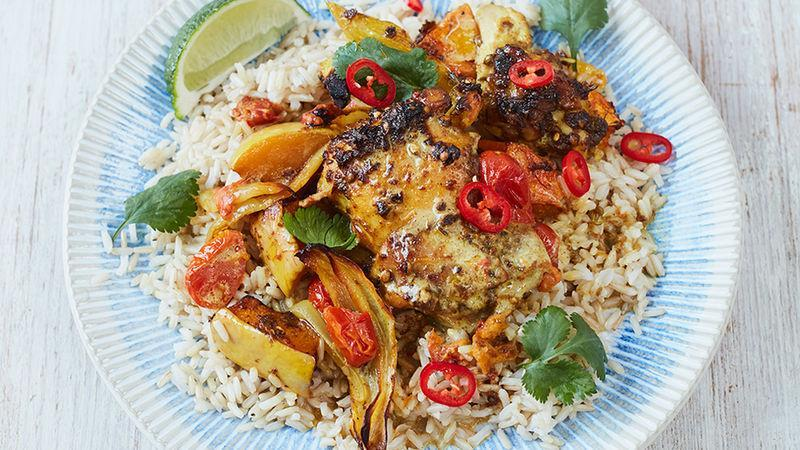chicken: (209, 18, 591, 396)
